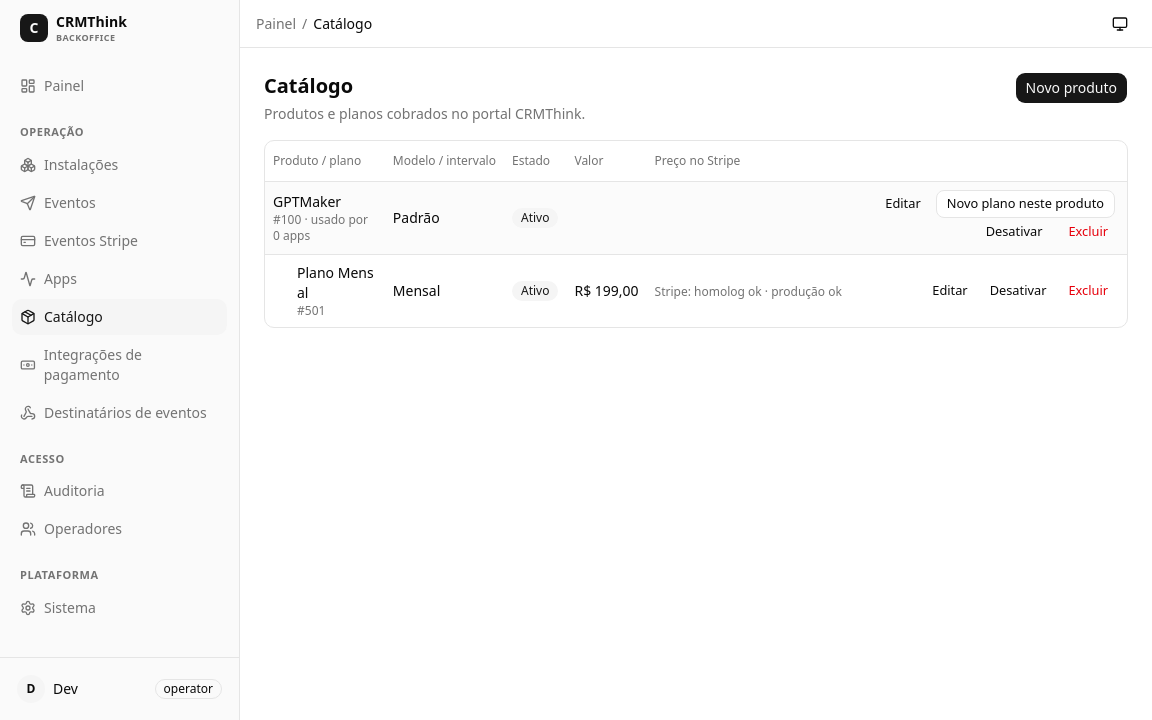
Test case: excluir e desativar › plano em uso mostra assinaturas e app do trial e só oferece Desativar
What coordinates should you click on to do the following:
click the button with aria-label "Excluir plano Plano Mensal"
I would click on:
 (1088, 290)
Its box is x1=1057 y1=276 x2=1119 y2=304.
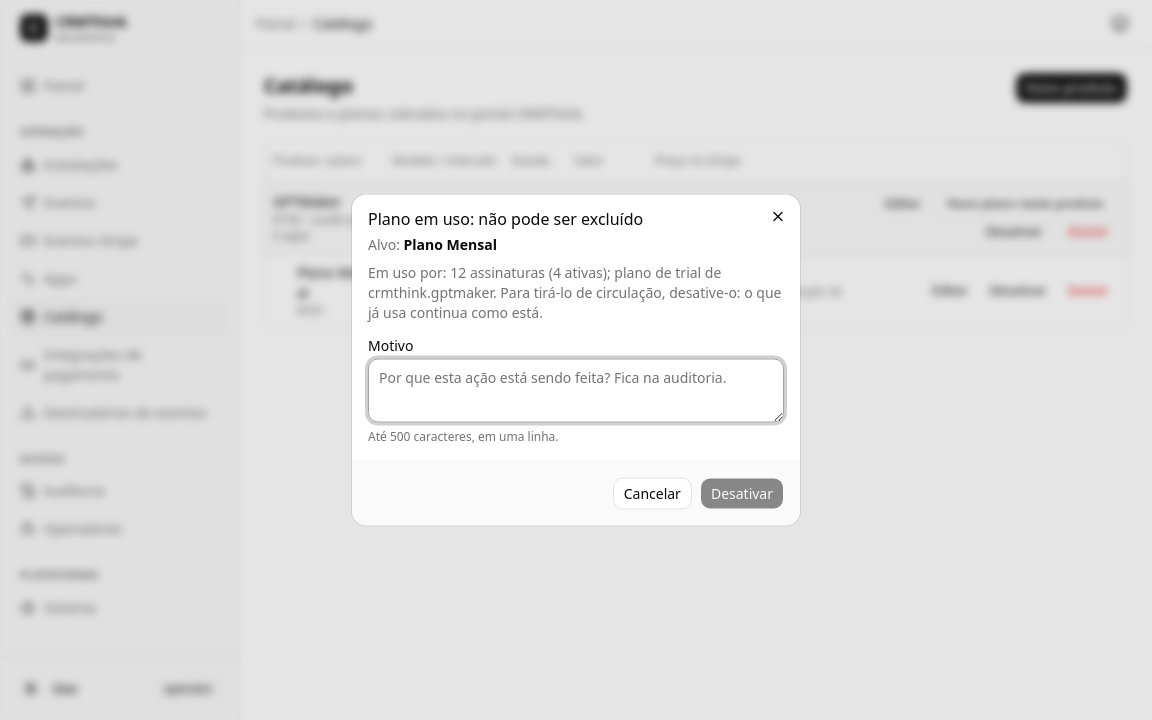
Expected: the text "plano de trial de crmthink.gptmaker" is shown, x1=368 y1=262 x2=721 y2=302
Expected: the button "Desativar" is disabled, x1=700 y1=478 x2=784 y2=510
